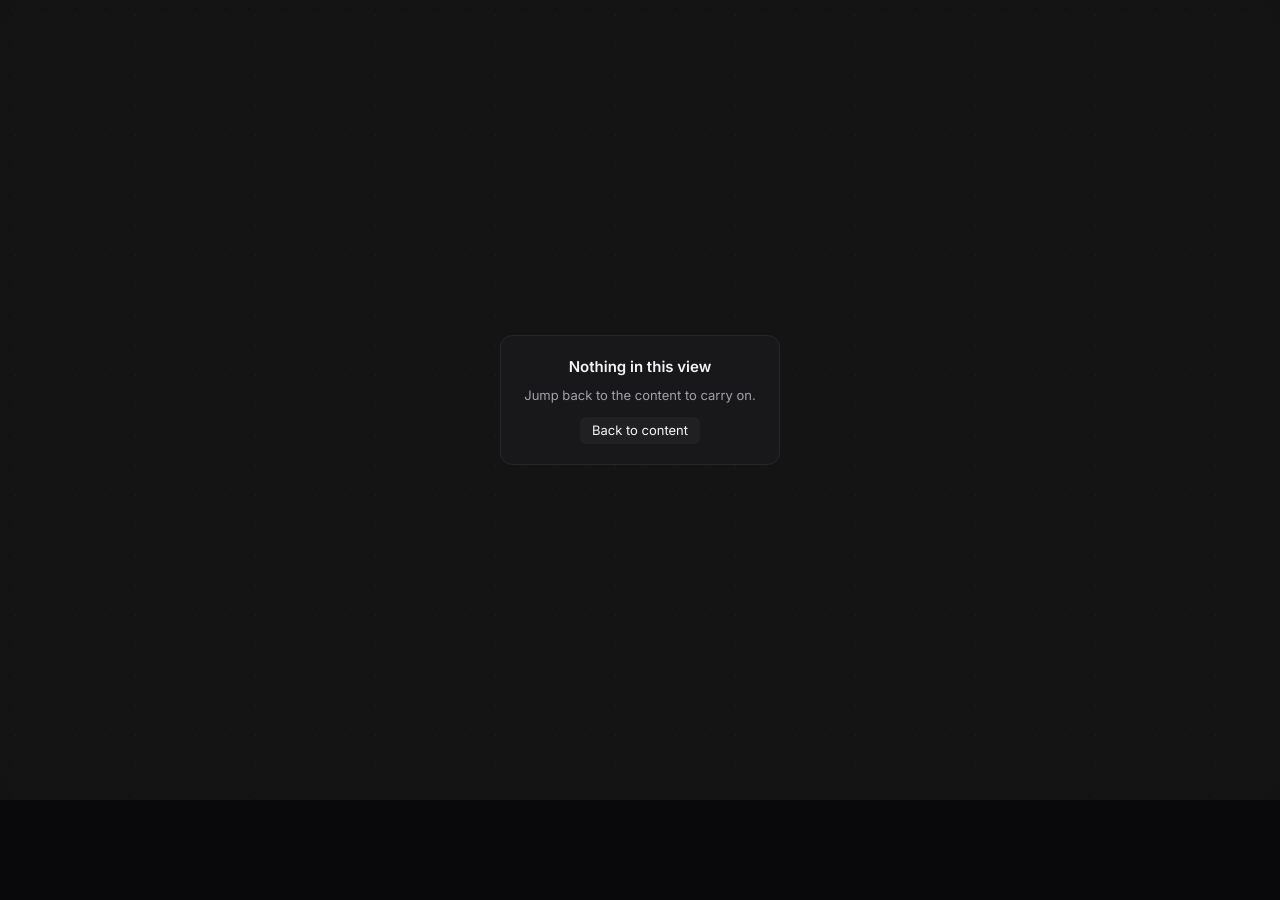
it: WhiteboardCanvas › empty and lost states
Later steps or results of the test are not shown.
Expected: the text "Nothing in this view" is shown, left=569, top=356, right=711, bottom=378
Expected: the text "Jump back to the content to carry on." is shown, left=524, top=386, right=756, bottom=405
Click the button "Back to content". click: (640, 431)
box: left=580, top=417, right=700, bottom=444
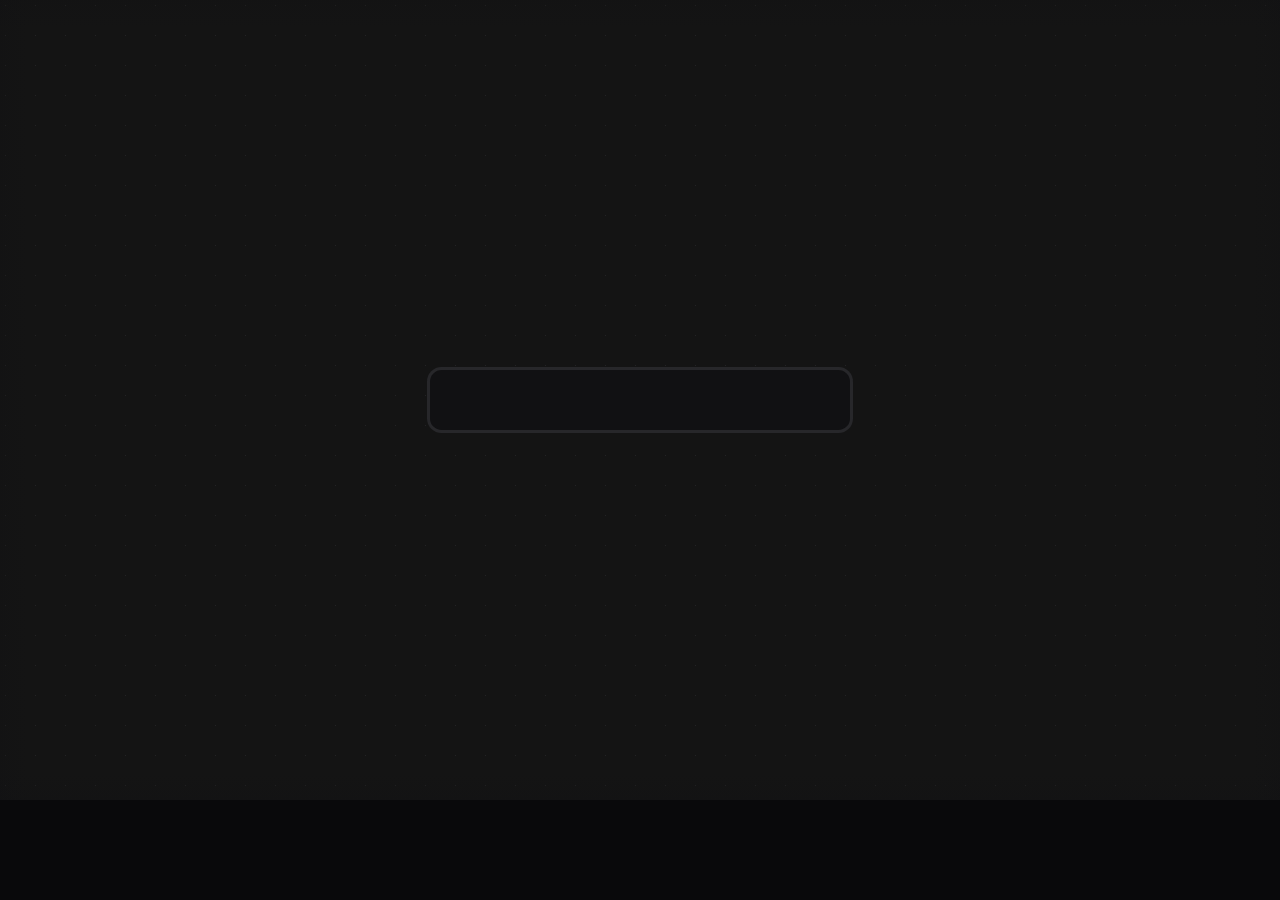
Expected: the text "Nothing in this view" is gone
